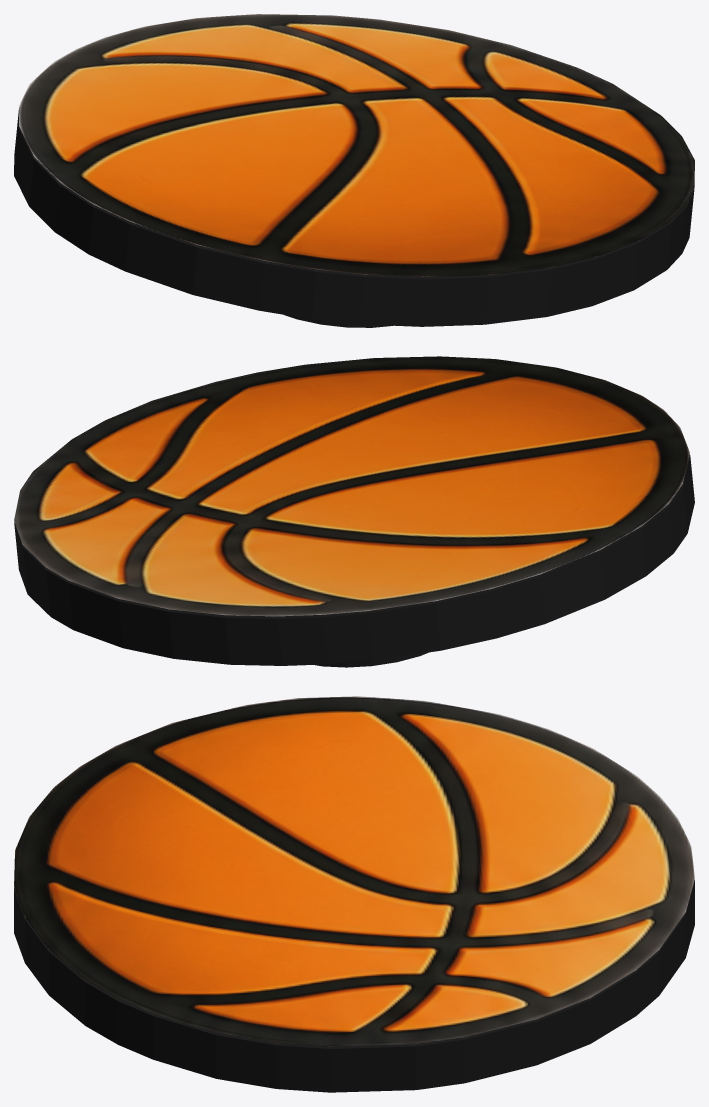
File: sports-basketball.glb
3 views of the same model, one above another, from view 1: azimuth 30°, elevation 25°; view 2: azimuth 150°, elevation 25°; view 3: azimuth 270°, elevation 25° (orthographic).
Visible parts, largest first — view 1: SPORTS_Basketball_MODEL; view 2: SPORTS_Basketball_MODEL; view 3: SPORTS_Basketball_MODEL.
Part boxes in pixels (x1,y1,x2,y2): SPORTS_Basketball_MODEL: (14, 14, 694, 327); SPORTS_Basketball_MODEL: (14, 356, 694, 667); SPORTS_Basketball_MODEL: (14, 696, 694, 1092).
Bounding box in the file's own units: 0.3402 × 0.1007 × 0.3407.
3 materials, 1 textured.
